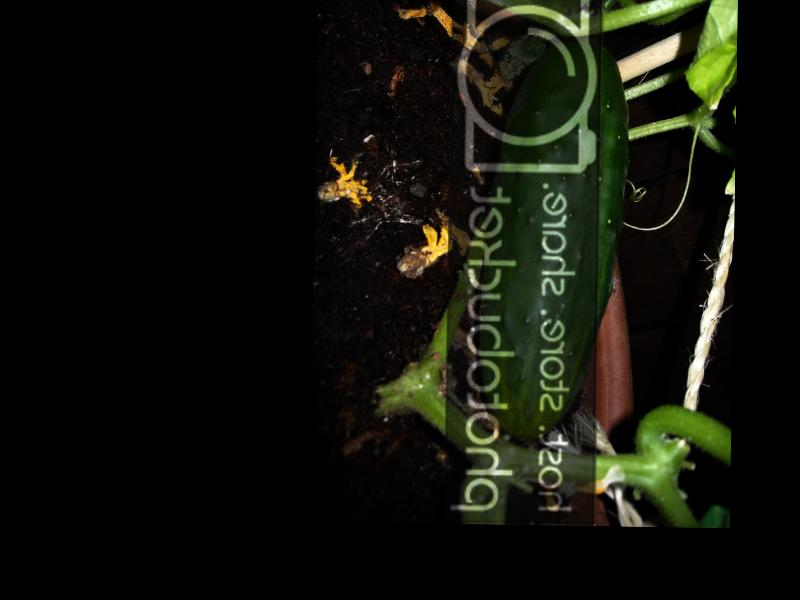Cucumber: (474, 38, 629, 440)
